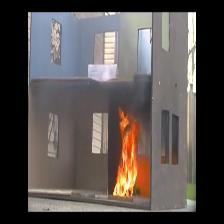fire: (113, 110, 141, 194)
smoke: (111, 82, 149, 100)
